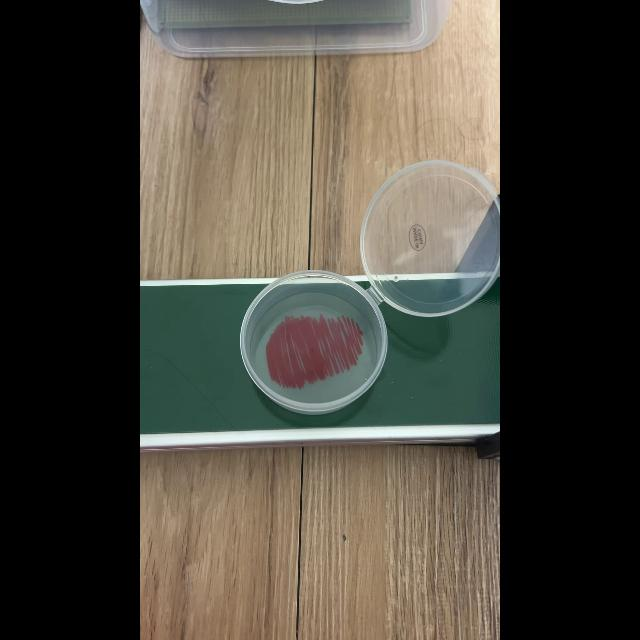dirty: (242, 282, 384, 401)
